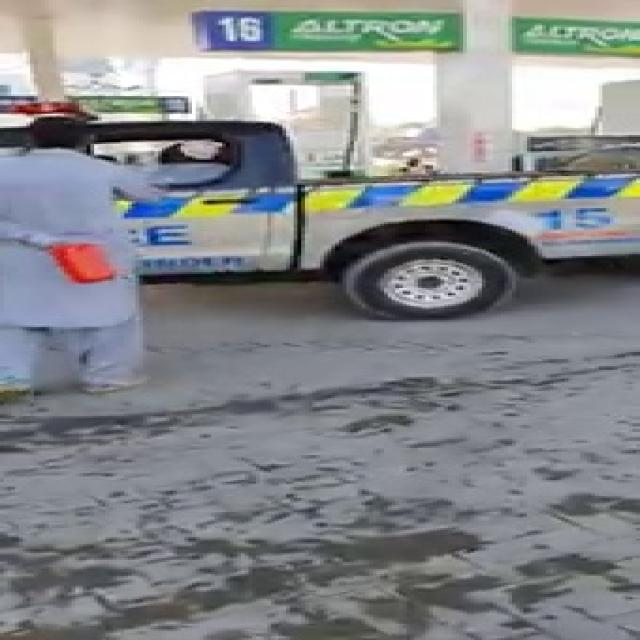police: (9, 109, 634, 289)
